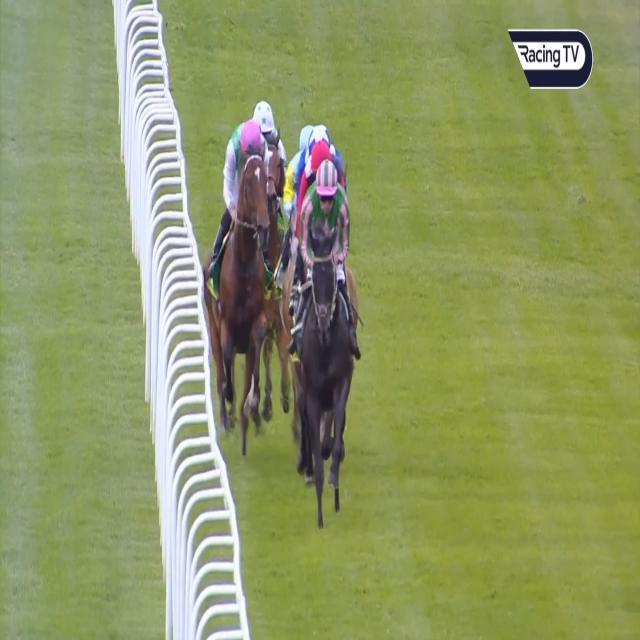horses-racing: (302, 161, 352, 519), (212, 108, 266, 430), (298, 140, 342, 189), (256, 100, 278, 145), (293, 112, 311, 167), (310, 113, 329, 151)
